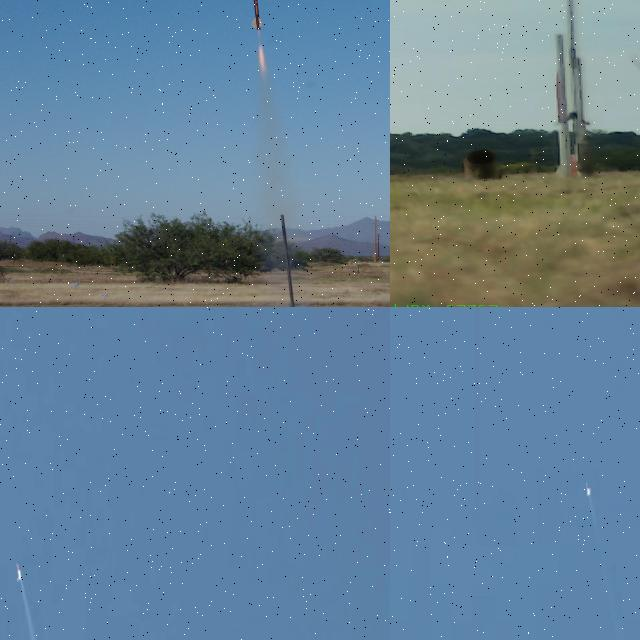Rocket: (250, 0, 263, 31), (16, 562, 22, 583), (586, 484, 591, 496)
